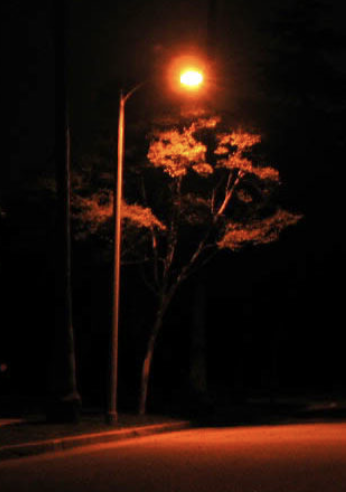HPS: (142, 51, 218, 109)
